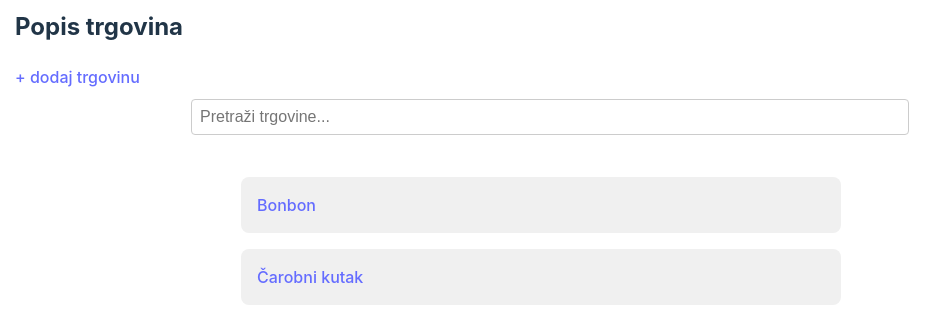
pretraživanje filtrira prikazanu listu
The width and height of the screenshot is (926, 322).
Expected: the link "Bonbon" is shown, [257,195,316,215]
In the field with placeholder "Pretraži trgovine...": (550, 117) [191,99,909,135], type "čar"
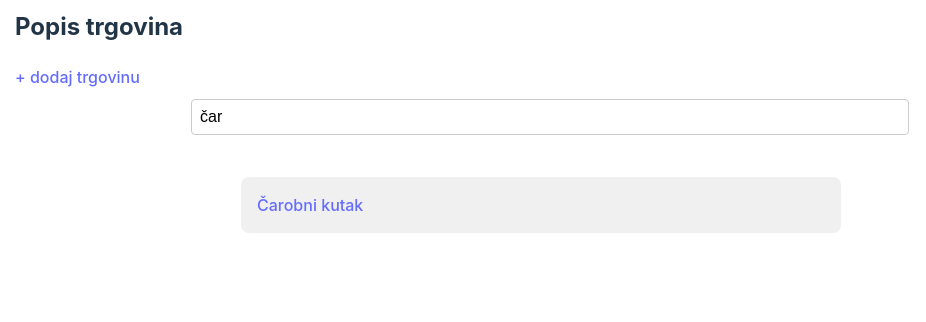
Expected: the link "Čarobni kutak" is shown, [257,195,363,215]
Expected: the link "Bonbon" is gone
